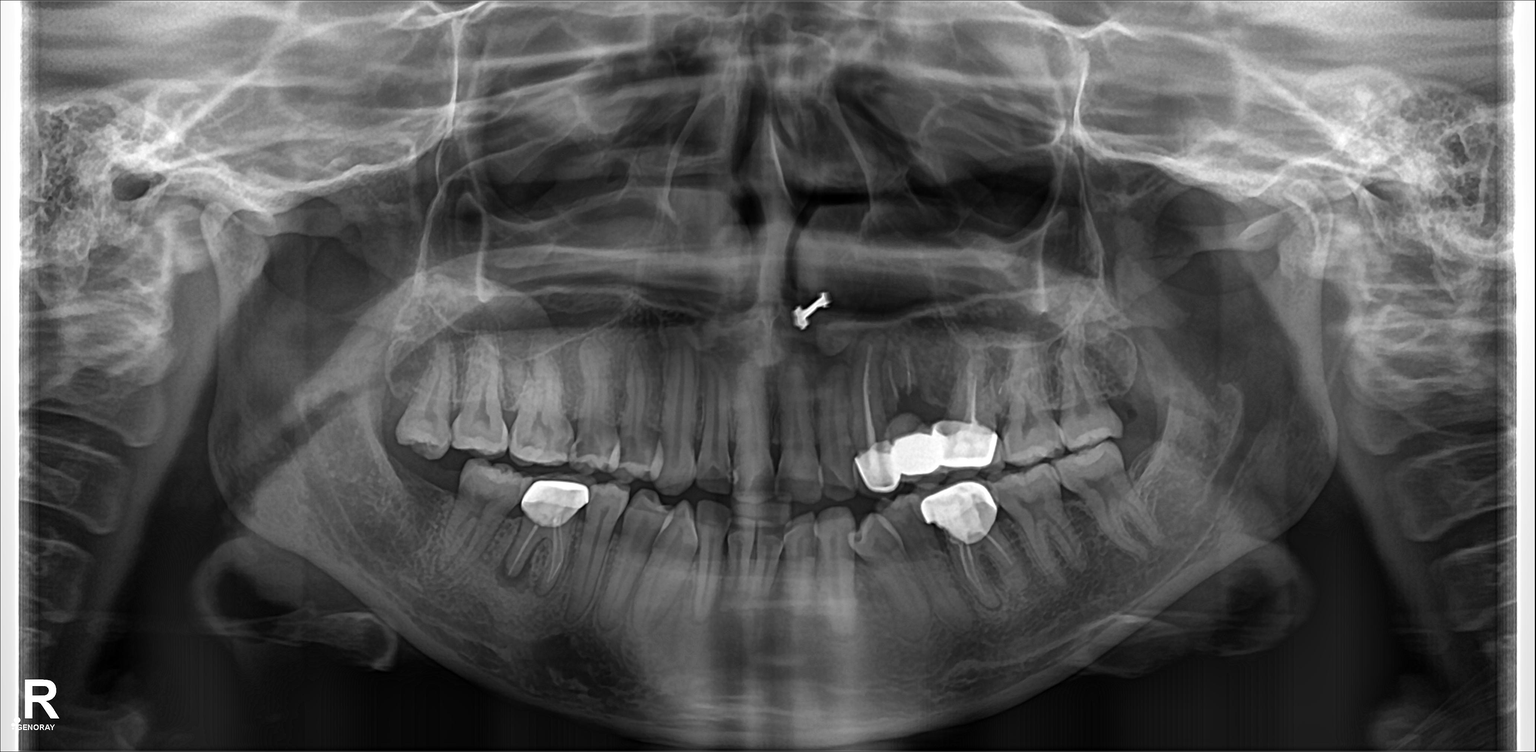Endodontically Treated Tooth: (844, 356, 898, 493), (939, 491, 1003, 603), (523, 475, 578, 584), (946, 352, 994, 463), (899, 352, 937, 474)
Missing Tooth: (1102, 337, 1164, 429), (404, 463, 453, 545)
